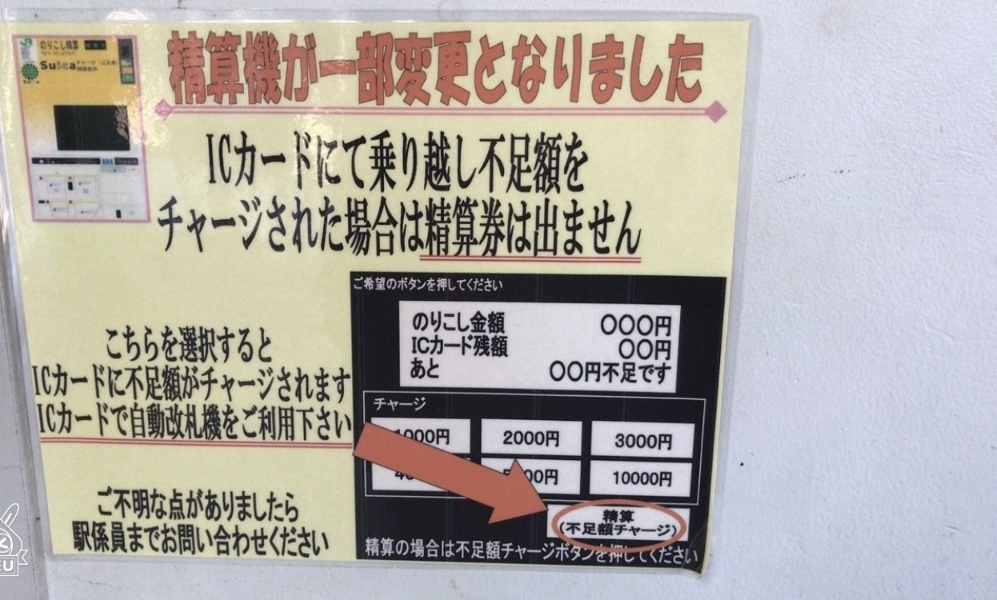text: (177, 31, 192, 109), (193, 31, 208, 109), (209, 31, 224, 109), (225, 31, 240, 109), (241, 31, 256, 109), (257, 31, 272, 109), (273, 31, 288, 109), (289, 31, 304, 109), (305, 31, 320, 109), (321, 31, 336, 109), (337, 31, 352, 109), (353, 31, 368, 109), (369, 31, 384, 109), (385, 31, 400, 109), (401, 31, 416, 109), (417, 31, 432, 109), (433, 31, 448, 109), (449, 31, 464, 109), (465, 31, 480, 109), (481, 31, 496, 109), (497, 31, 512, 109), (513, 31, 528, 109), (529, 31, 544, 109), (545, 31, 560, 109), (561, 31, 576, 109), (577, 31, 592, 109), (593, 31, 608, 109), (609, 31, 624, 109), (625, 31, 640, 109), (641, 31, 656, 109), (657, 31, 672, 109), (673, 31, 688, 109), (689, 31, 704, 109), (209, 130, 224, 198), (225, 130, 240, 198), (241, 130, 256, 198), (257, 130, 272, 198), (273, 130, 288, 198), (289, 130, 304, 198), (305, 130, 320, 198), (321, 130, 336, 198), (337, 130, 352, 198), (353, 130, 368, 198), (369, 130, 384, 198), (385, 130, 400, 198), (401, 130, 416, 198), (417, 130, 432, 198), (433, 130, 448, 198), (449, 130, 464, 198), (465, 130, 480, 198), (481, 130, 496, 198), (497, 130, 512, 198), (513, 130, 528, 198), (529, 130, 544, 198), (545, 130, 560, 198), (561, 130, 576, 198), (163, 31, 176, 109), (161, 193, 176, 259), (177, 193, 192, 259), (193, 193, 208, 259), (209, 193, 224, 259), (225, 193, 240, 259), (241, 193, 256, 259), (257, 193, 272, 259), (273, 193, 288, 259), (289, 193, 304, 259), (305, 193, 320, 259), (321, 193, 336, 259), (337, 193, 352, 259), (353, 193, 368, 259), (369, 193, 384, 259), (385, 193, 400, 259), (401, 193, 416, 259), (417, 193, 432, 259), (433, 193, 448, 259), (449, 193, 464, 259), (465, 193, 480, 259), (481, 193, 496, 259), (497, 193, 512, 259), (513, 193, 528, 259), (529, 193, 544, 259), (545, 193, 560, 259), (561, 193, 576, 259), (577, 193, 592, 259), (593, 193, 608, 259), (609, 193, 624, 259), (625, 193, 640, 259), (577, 130, 589, 198), (49, 401, 64, 444), (65, 401, 80, 444), (81, 401, 96, 444), (97, 401, 112, 444), (113, 401, 128, 444), (129, 401, 144, 444), (145, 401, 160, 444), (161, 401, 176, 444), (177, 401, 192, 444), (193, 401, 208, 444), (209, 401, 224, 444), (225, 401, 240, 444), (241, 401, 256, 444), (257, 401, 272, 444), (273, 401, 288, 444), (289, 401, 304, 444), (305, 401, 320, 444), (321, 401, 336, 444), (337, 401, 352, 444), (33, 365, 48, 405), (49, 365, 64, 405), (65, 365, 80, 405), (81, 365, 96, 405), (97, 365, 112, 405), (113, 365, 128, 405), (129, 365, 144, 405), (145, 365, 160, 405), (161, 365, 176, 405), (177, 365, 192, 405), (193, 365, 208, 405), (209, 365, 224, 405), (225, 365, 240, 405), (241, 365, 256, 405), (257, 365, 272, 405), (273, 365, 288, 405), (289, 365, 304, 405), (305, 365, 320, 405), (321, 365, 336, 405), (81, 521, 96, 561), (97, 521, 112, 561), (113, 521, 128, 561), (129, 521, 144, 561), (145, 521, 160, 561), (161, 521, 176, 561), (177, 521, 192, 561), (193, 521, 208, 561), (209, 521, 224, 561), (225, 521, 240, 561), (241, 521, 256, 561), (257, 521, 272, 561), (273, 521, 288, 561), (289, 521, 304, 561), (305, 521, 320, 561), (113, 326, 128, 365), (129, 326, 144, 365), (145, 326, 160, 365), (161, 326, 176, 365), (177, 326, 192, 365), (193, 326, 208, 365), (209, 326, 224, 365), (225, 326, 240, 365), (241, 326, 256, 365), (257, 326, 272, 365), (97, 487, 112, 525), (113, 487, 128, 525), (129, 487, 144, 525), (145, 487, 160, 525), (161, 487, 176, 525), (177, 487, 192, 525), (193, 487, 208, 525), (209, 487, 224, 525), (225, 487, 240, 525), (241, 487, 256, 525), (257, 487, 272, 525), (273, 487, 288, 525), (337, 365, 351, 405), (36, 401, 48, 444), (369, 537, 384, 568), (385, 537, 400, 568), (401, 537, 416, 568), (417, 537, 432, 568), (433, 537, 448, 568), (449, 537, 464, 568), (465, 537, 480, 568), (481, 537, 496, 568), (497, 537, 512, 568), (513, 537, 528, 568), (529, 537, 544, 568), (545, 537, 560, 568), (561, 537, 576, 568), (577, 537, 592, 568), (593, 537, 608, 568), (609, 537, 624, 568), (625, 537, 640, 568), (641, 537, 656, 568), (657, 537, 672, 568), (673, 537, 688, 568), (289, 487, 300, 525), (321, 521, 331, 561), (417, 310, 432, 335), (433, 310, 448, 335), (449, 310, 464, 335), (465, 310, 480, 335), (481, 310, 496, 335), (417, 333, 432, 358), (433, 333, 448, 358), (449, 333, 464, 358), (465, 333, 480, 358), (481, 333, 496, 358), (609, 313, 624, 338), (625, 313, 640, 338), (641, 313, 656, 338), (71, 521, 80, 561), (417, 357, 432, 381), (561, 361, 576, 385), (577, 361, 592, 385), (593, 361, 608, 385), (609, 361, 624, 385), (625, 361, 640, 385), (641, 361, 656, 385), (657, 313, 671, 338), (625, 338, 640, 361), (641, 338, 656, 361), (657, 361, 671, 385), (104, 326, 112, 365), (497, 333, 509, 358), (657, 338, 670, 361), (625, 433, 640, 452), (641, 433, 656, 452), (657, 433, 672, 452), (689, 537, 698, 568), (433, 429, 449, 446), (657, 471, 673, 488), (401, 429, 416, 446), (417, 429, 432, 446), (513, 431, 528, 448), (529, 431, 544, 448), (625, 471, 640, 488), (641, 471, 656, 488), (529, 469, 544, 486), (369, 277, 384, 293), (385, 277, 400, 293), (401, 277, 416, 293), (417, 277, 432, 293), (433, 277, 448, 293), (449, 277, 464, 293), (465, 277, 480, 293), (481, 277, 496, 293), (550, 361, 560, 385), (609, 509, 624, 525), (561, 522, 576, 538), (577, 522, 592, 538), (593, 522, 608, 538), (609, 522, 624, 538), (625, 522, 640, 538), (641, 522, 656, 538), (657, 522, 672, 538), (545, 431, 559, 448), (354, 277, 368, 293), (545, 469, 558, 486), (497, 310, 505, 335), (600, 313, 608, 338), (433, 357, 441, 381), (613, 471, 624, 488), (625, 509, 635, 525), (705, 31, 707, 109), (503, 431, 512, 448), (49, 41, 64, 51), (65, 41, 79, 51), (618, 338, 624, 361), (206, 130, 208, 198), (49, 61, 64, 70), (617, 433, 624, 452), (158, 193, 160, 259), (641, 193, 643, 259), (411, 357, 416, 381), (393, 429, 400, 446), (65, 61, 77, 70), (412, 333, 416, 358), (497, 277, 503, 293), (81, 66, 97, 72), (365, 537, 368, 568), (49, 50, 64, 56), (523, 469, 528, 486), (603, 509, 608, 525), (40, 41, 48, 51), (65, 50, 78, 56), (413, 310, 416, 335), (673, 522, 677, 538), (41, 61, 48, 70), (81, 61, 96, 65), (97, 61, 112, 65), (103, 159, 112, 165), (41, 50, 48, 56), (24, 81, 32, 84), (33, 81, 40, 84), (77, 66, 80, 72), (77, 61, 80, 65), (113, 61, 116, 65), (113, 159, 114, 165)
